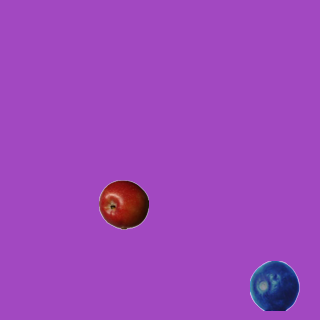Apple Braeburn: (98, 179, 148, 229)
Huckleberry: (249, 260, 299, 310)
